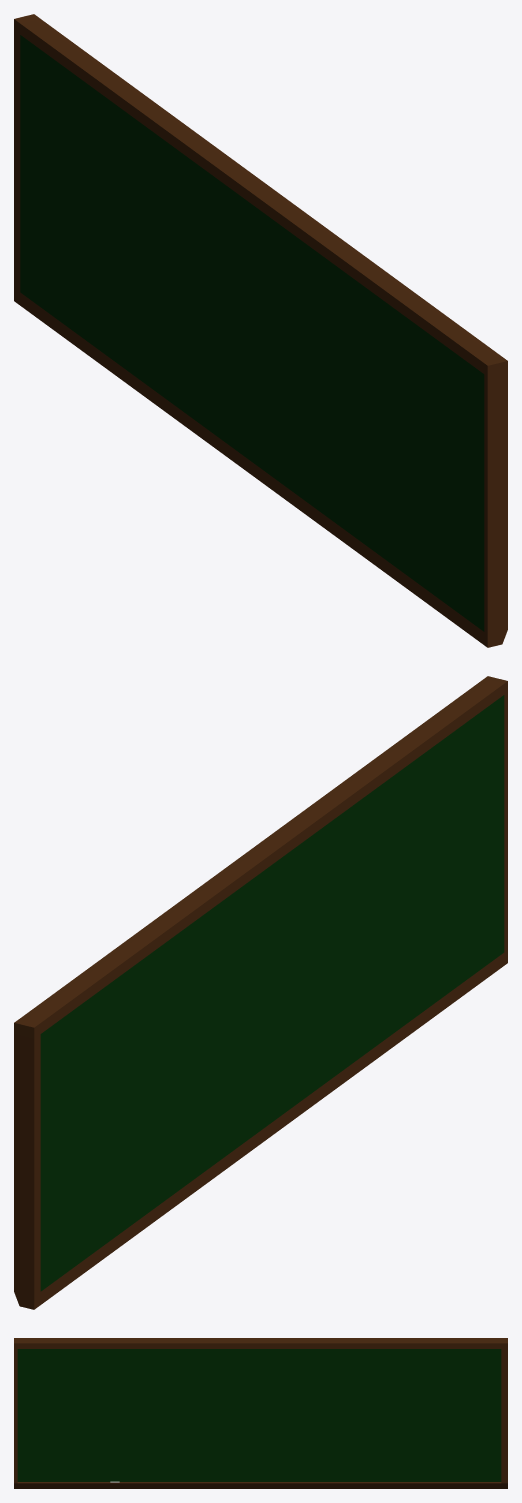
Rendered from Chalkboard.fbx.
The picture shows the model from 3 angles, top to bottom: view 1: azimuth 30°, elevation 25°; view 2: azimuth 150°, elevation 25°; view 3: azimuth 270°, elevation 25°; orthographic projection. The views are drawn at different scales.
Visible parts, largest first — view 1: Cube; view 2: Cube; view 3: Cube.002, Cube.
Boxes of the visible parts, left/top/right/bottom form: Cube: left=14, top=14, right=507, bottom=647; Cube: left=14, top=676, right=507, bottom=1309; Cube.002: left=17, top=1349, right=501, bottom=1481; Cube: left=14, top=1338, right=507, bottom=1488.
Size of the model in its own units: 18.82 by 252 by 766.
